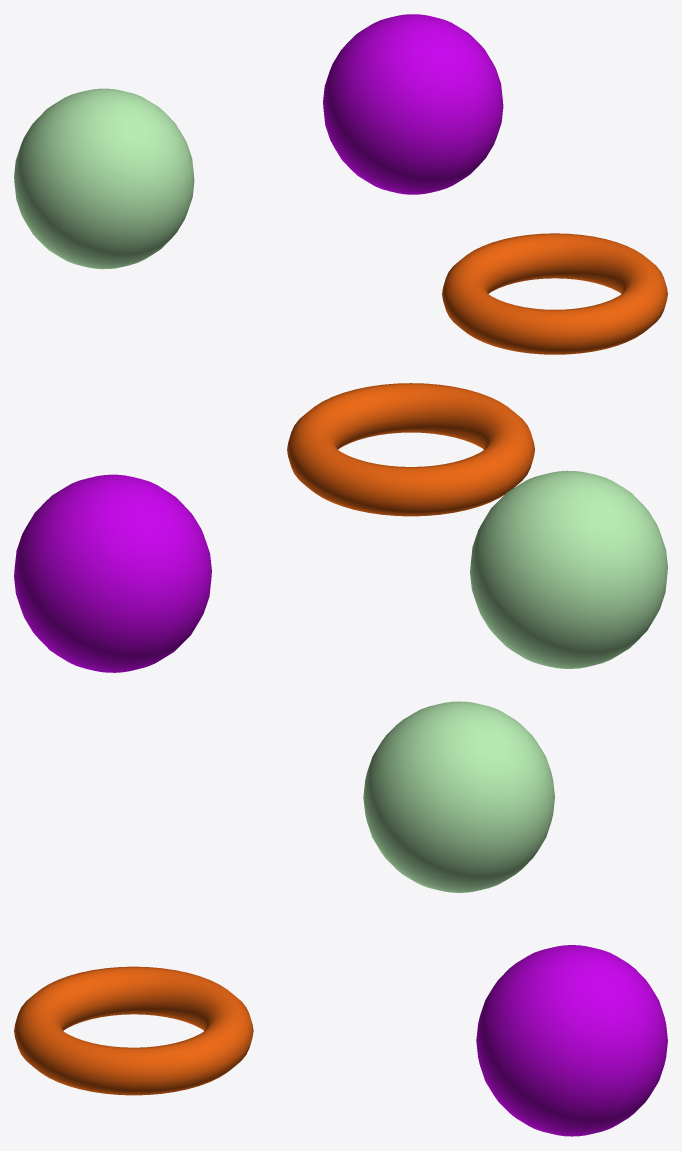
The picture shows the model from 3 angles, top to bottom: view 1: azimuth 30°, elevation 25°; view 2: azimuth 150°, elevation 25°; view 3: azimuth 270°, elevation 25°; orthographic projection. The views are drawn at different scales.
Parts seen in each view (by area): view 1: Sphere.001, Sphere, Torus; view 2: Sphere, Sphere.001, Torus; view 3: Sphere.001, Sphere, Torus.
Boxes of the visible parts, left/top/right/bottom form: Sphere.001: left=14, top=88, right=194, bottom=269; Sphere: left=323, top=14, right=503, bottom=194; Torus: left=442, top=233, right=667, bottom=354; Sphere: left=14, top=474, right=211, bottom=672; Sphere.001: left=470, top=470, right=667, bottom=668; Torus: left=287, top=383, right=534, bottom=516; Sphere.001: left=363, top=701, right=554, bottom=892; Sphere: left=476, top=945, right=667, bottom=1136; Torus: left=14, top=966, right=253, bottom=1095.
Size of the model in its own units: 663 by 265 by 682.
